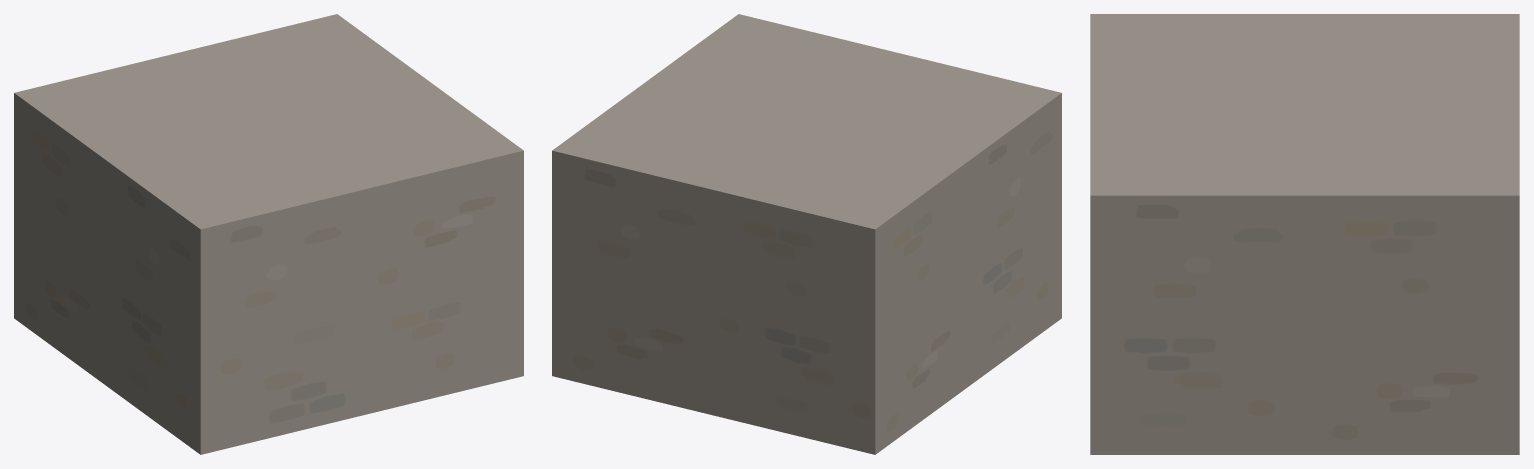
Rendered from Bock_A1.fbx.
The picture shows the model from 3 angles, left to right: view 1: azimuth 30°, elevation 25°; view 2: azimuth 150°, elevation 25°; view 3: azimuth 270°, elevation 25°; orthographic projection. The views are drawn at different scales.
Visible parts, largest first — view 1: Bock_A1; view 2: Bock_A1; view 3: Bock_A1.
Boxes of the visible parts, x1,y1,x2,y2 form: Bock_A1: (14,14,523,454); Bock_A1: (552,14,1061,454); Bock_A1: (1090,14,1519,454).
Size of the model in its own units: 600 by 400 by 600.
1 material, 1 textured.
